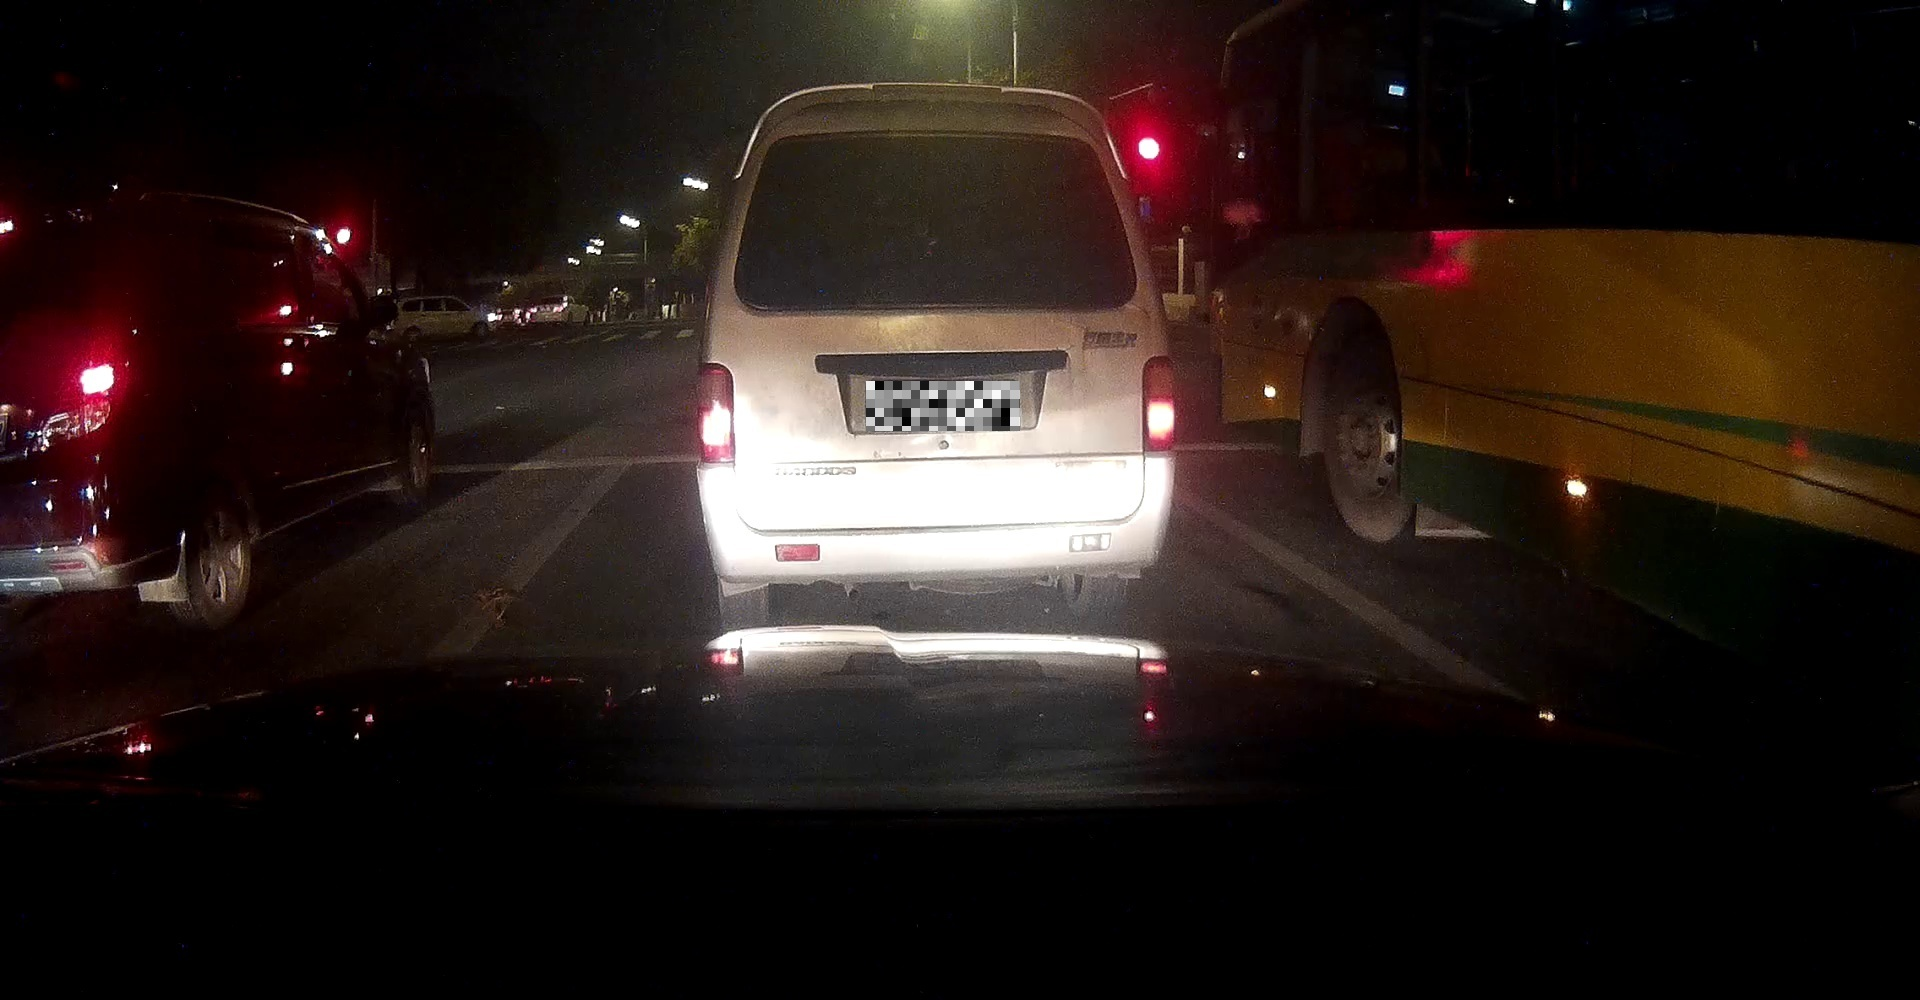L_light: (695, 364, 735, 464)
R_light: (1142, 357, 1173, 451)
T_light: (889, 137, 966, 151)
night-no: (695, 82, 1175, 631)
plate_1: (866, 381, 1020, 431)
